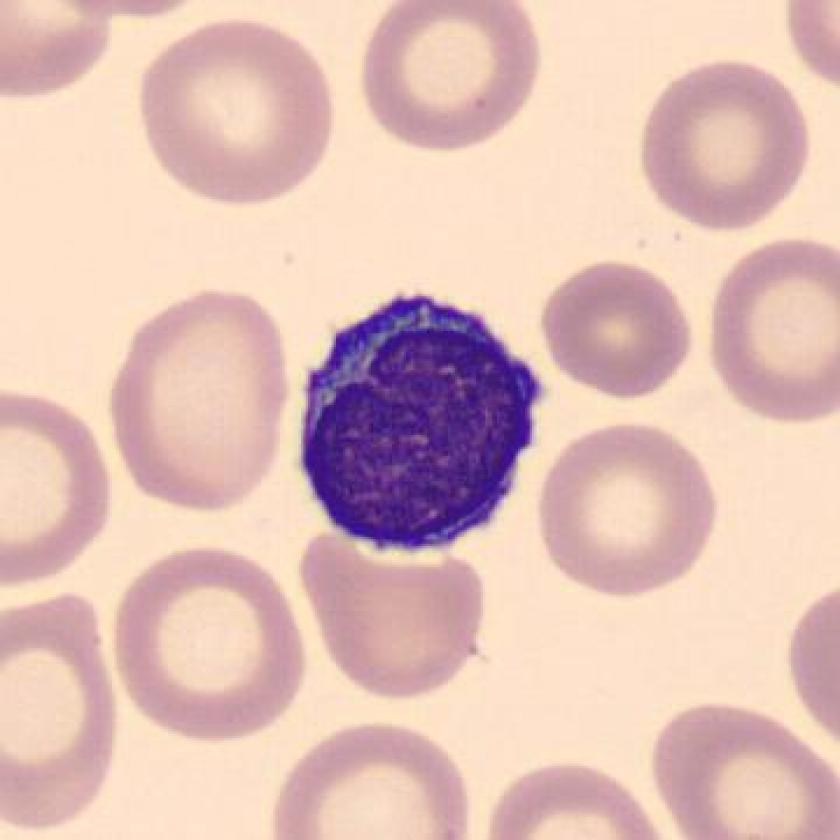lymphocyte: (288, 283, 549, 568)
